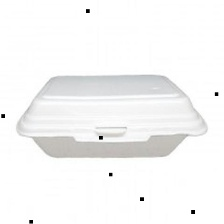foam_box: (7, 67, 215, 164)
